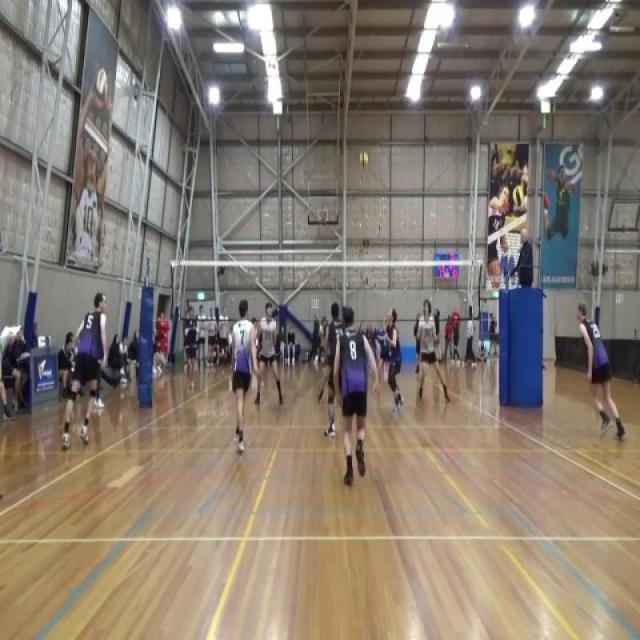volleyball: (94, 67, 108, 110), (512, 186, 525, 207), (359, 152, 368, 168)
